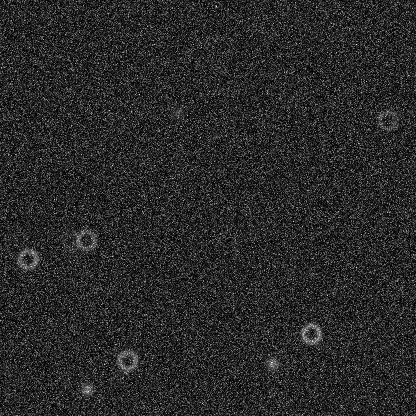Ring: (375, 108, 399, 132), (299, 321, 323, 345), (74, 227, 98, 251), (15, 246, 39, 270), (58, 228, 82, 252), (115, 348, 139, 372)
Spot: (264, 355, 280, 371), (333, 26, 349, 42), (78, 381, 94, 397), (170, 104, 186, 120)
